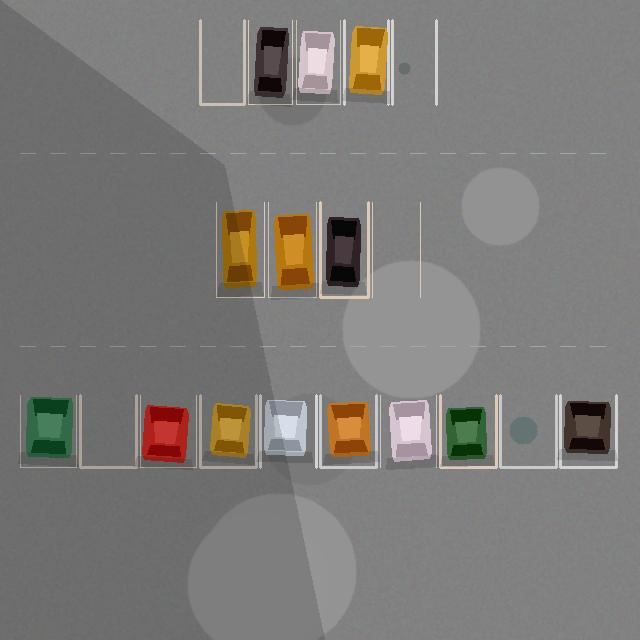space-empty: (372, 202, 420, 297), (80, 395, 136, 467), (500, 395, 556, 467), (200, 20, 244, 104), (392, 20, 436, 104)
space-occupied: (216, 202, 264, 297), (268, 202, 316, 297), (320, 202, 368, 297), (20, 395, 76, 467), (140, 395, 196, 467), (200, 395, 256, 467), (260, 395, 316, 467), (320, 395, 376, 467), (380, 395, 436, 467), (440, 395, 496, 467), (560, 395, 616, 467), (248, 20, 292, 104), (296, 20, 340, 104), (344, 20, 388, 104)
